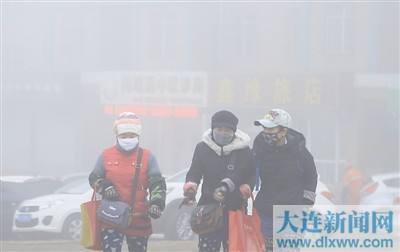person: (182, 106, 260, 252), (90, 111, 166, 251), (248, 110, 317, 205)
